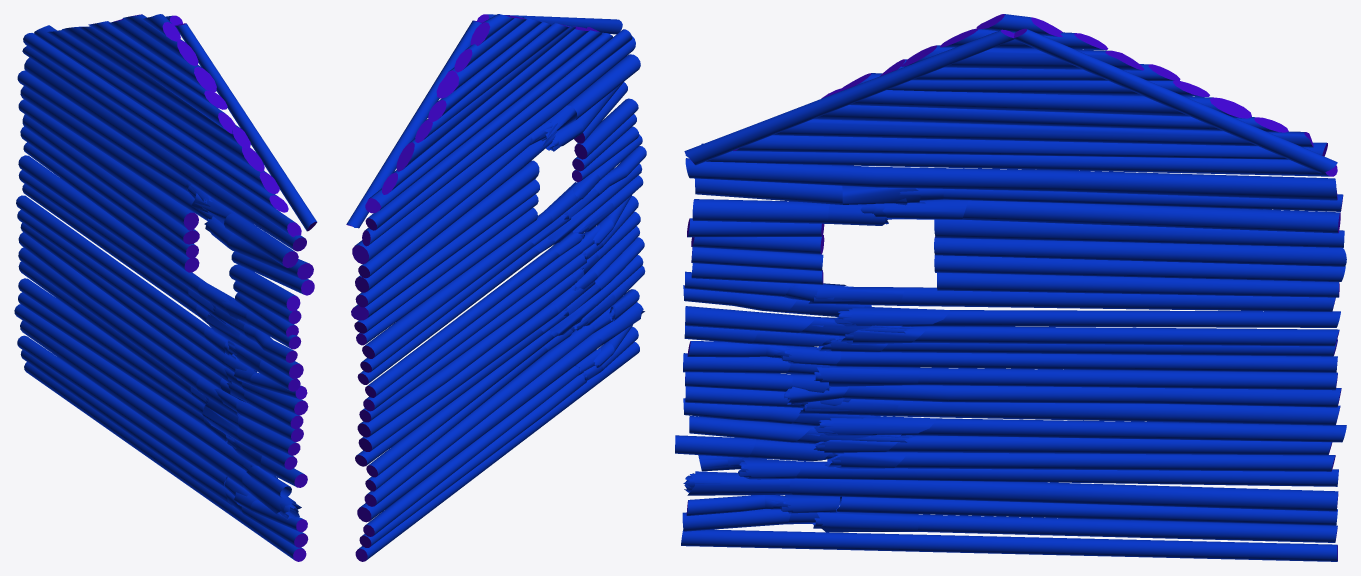
Rendered from SM_SmallLodge_WallLeft.fbx.
The picture shows the model from 3 angles, left to right: view 1: azimuth 30°, elevation 25°; view 2: azimuth 150°, elevation 25°; view 3: azimuth 270°, elevation 25°; orthographic projection. The views are drawn at different scales.
Parts seen in each view (by area): view 1: SM_ST_SmallLodge01.mo.001, Roof, BottomBrokenLogs, BottomLog.001; view 2: SM_ST_SmallLodge01.mo.001, Roof, BottomBrokenLogs, BottomLog.001; view 3: SM_ST_SmallLodge01.mo.001, Roof, BottomBrokenLogs, BottomLog.001.
Boxes of the visible parts, <box> form: SM_ST_SmallLodge01.mo.001: <box>14,57,314,519</box>; Roof: <box>22,14,317,237</box>; BottomBrokenLogs: <box>17,335,308,547</box>; BottomLog.001: <box>24,362,306,561</box>; SM_ST_SmallLodge01.mo.001: <box>351,36,646,522</box>; Roof: <box>346,14,632,246</box>; BottomBrokenLogs: <box>359,324,638,547</box>; BottomLog.001: <box>355,341,639,561</box>; SM_ST_SmallLodge01.mo.001: <box>675,158,1346,511</box>; Roof: <box>684,14,1337,176</box>; BottomBrokenLogs: <box>682,495,1337,542</box>; BottomLog.001: <box>681,529,1337,561</box>.
Size of the model in its own units: 83.12 by 1022 by 913.
